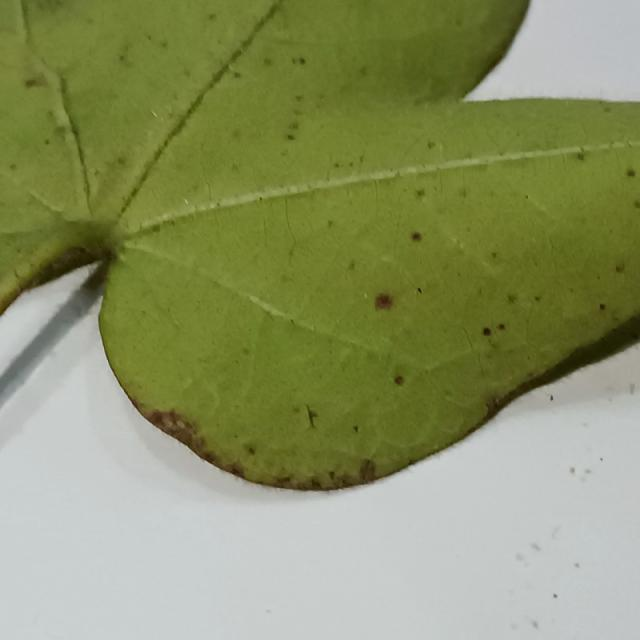Bacterial_Blight: (5, 241, 110, 334), (67, 220, 123, 263), (44, 249, 98, 279), (322, 150, 373, 180), (86, 253, 115, 288), (191, 384, 219, 412), (412, 90, 453, 108), (165, 410, 191, 432), (375, 287, 394, 317), (149, 411, 174, 431), (22, 73, 49, 90), (480, 322, 508, 338), (117, 47, 136, 68), (338, 473, 360, 487), (481, 401, 495, 423), (305, 406, 319, 427), (202, 450, 220, 466), (361, 462, 376, 481), (229, 463, 246, 477), (487, 396, 501, 413), (78, 245, 95, 258), (54, 124, 68, 137), (243, 443, 256, 455), (393, 374, 405, 386), (415, 188, 427, 200), (276, 475, 292, 484), (310, 478, 323, 489), (411, 231, 423, 242), (615, 262, 626, 274), (288, 120, 300, 131), (358, 66, 369, 77), (229, 161, 240, 172), (575, 151, 587, 161), (347, 258, 356, 271), (507, 294, 518, 304), (515, 552, 525, 562), (482, 327, 492, 336), (427, 140, 436, 150), (117, 156, 126, 166), (328, 471, 337, 481), (118, 54, 127, 63), (241, 347, 250, 356), (263, 58, 273, 66), (294, 94, 304, 102), (531, 620, 539, 630), (626, 169, 635, 177), (286, 133, 295, 141), (326, 219, 334, 228), (233, 71, 242, 79), (526, 371, 535, 379), (298, 57, 306, 65), (599, 303, 607, 311), (490, 251, 498, 259), (9, 163, 17, 171), (208, 13, 216, 21), (603, 106, 612, 113), (93, 168, 100, 177), (461, 188, 467, 198), (498, 323, 506, 330), (353, 425, 360, 433), (534, 295, 542, 302), (43, 138, 51, 145), (569, 467, 576, 475), (333, 162, 340, 169), (416, 287, 422, 294), (574, 562, 580, 569), (636, 200, 640, 209), (553, 594, 558, 600), (524, 194, 529, 200), (549, 395, 553, 402)
Cotton: (0, 0, 639, 489)
